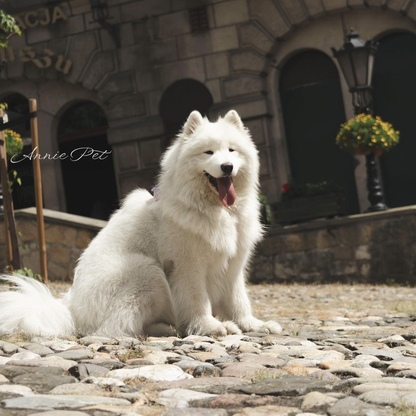samoyed: (1, 102, 290, 345)
